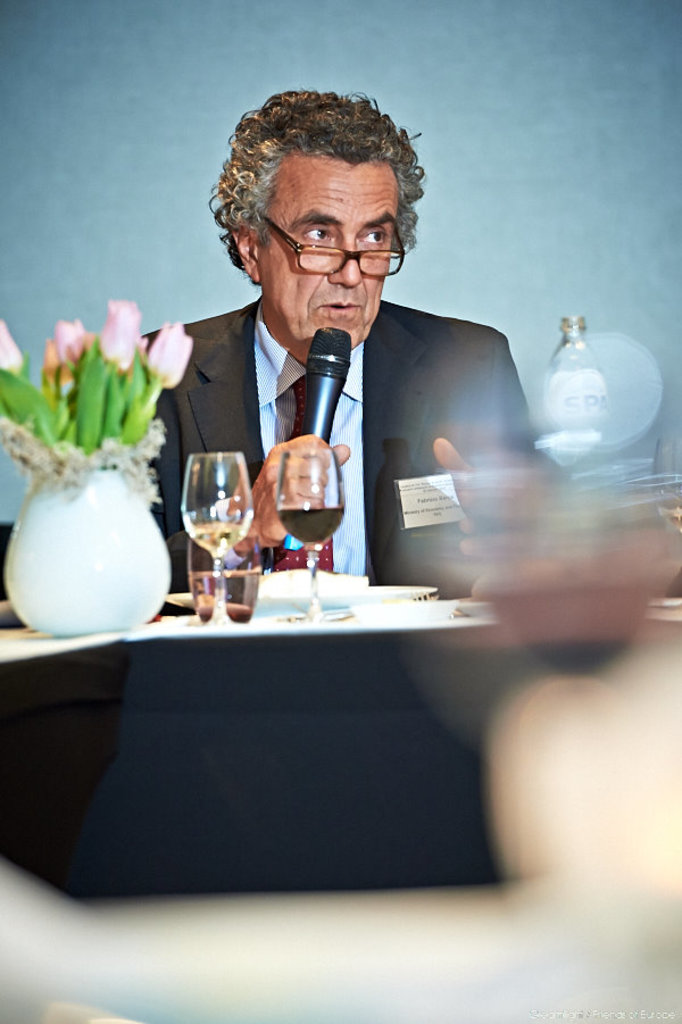Human_hand: (434, 433, 534, 564), (244, 427, 340, 518)
